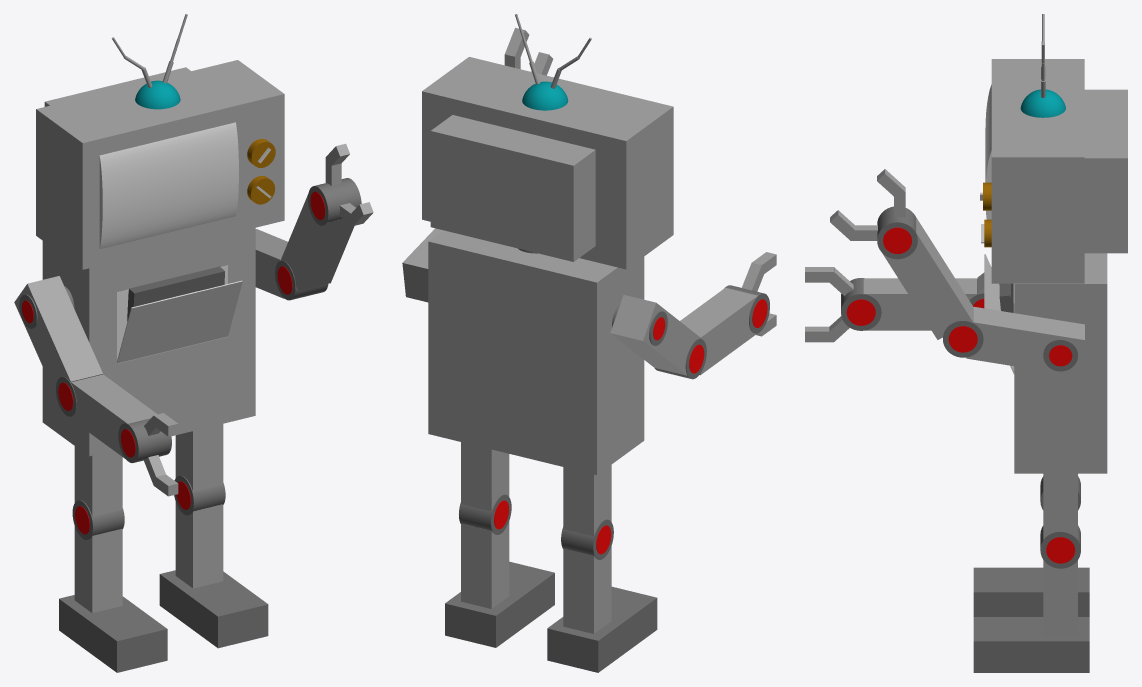
The model's file is Robot4.glb.
The picture shows the model from 3 angles, left to right: view 1: azimuth 30°, elevation 25°; view 2: azimuth 150°, elevation 25°; view 3: azimuth 270°, elevation 25°; orthographic projection.
Size of what is drawn, in the model's own units: 2.41 by 5.76 by 2.78.
